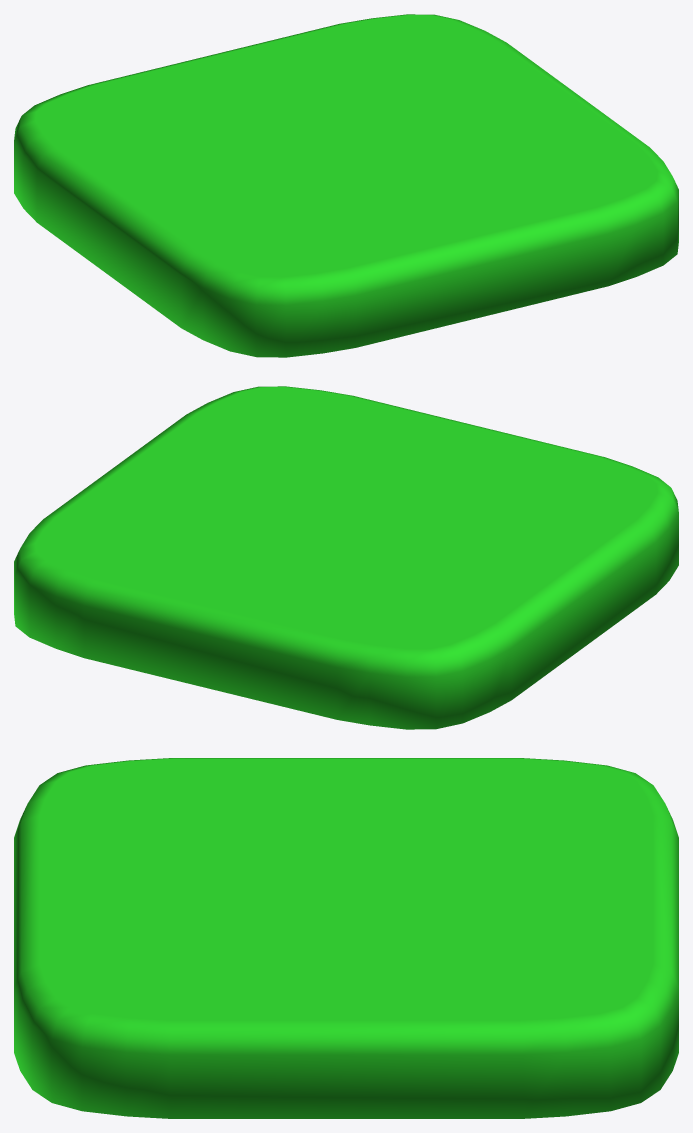
Rendered from ContainerLidSingle.fbx.
The picture shows the model from 3 angles, top to bottom: view 1: azimuth 30°, elevation 25°; view 2: azimuth 150°, elevation 25°; view 3: azimuth 270°, elevation 25°; orthographic projection. The views are drawn at different scales.
Visible parts, largest first — view 1: ContainerLidSingle; view 2: ContainerLidSingle; view 3: ContainerLidSingle.
Boxes of the visible parts, <box> form: ContainerLidSingle: <box>14,14,678,357</box>; ContainerLidSingle: <box>14,386,678,729</box>; ContainerLidSingle: <box>14,758,678,1118</box>.
Size of the model in its own units: 43.74 by 6.3 by 43.37.
